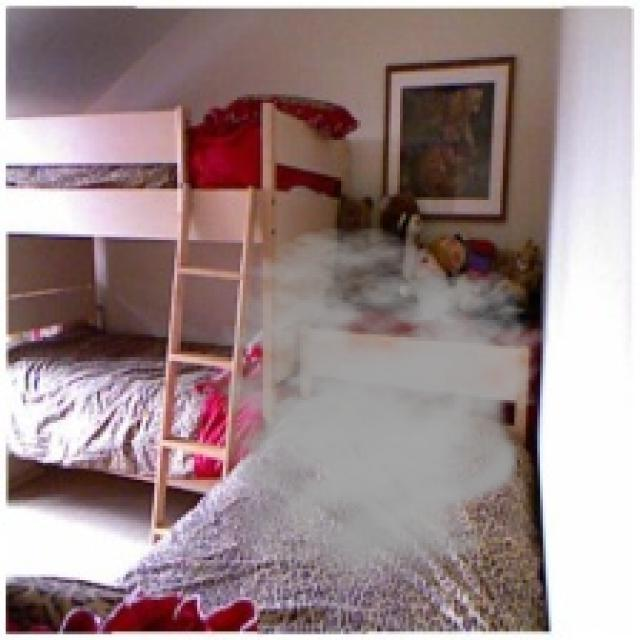smoke: (177, 226, 552, 588)
